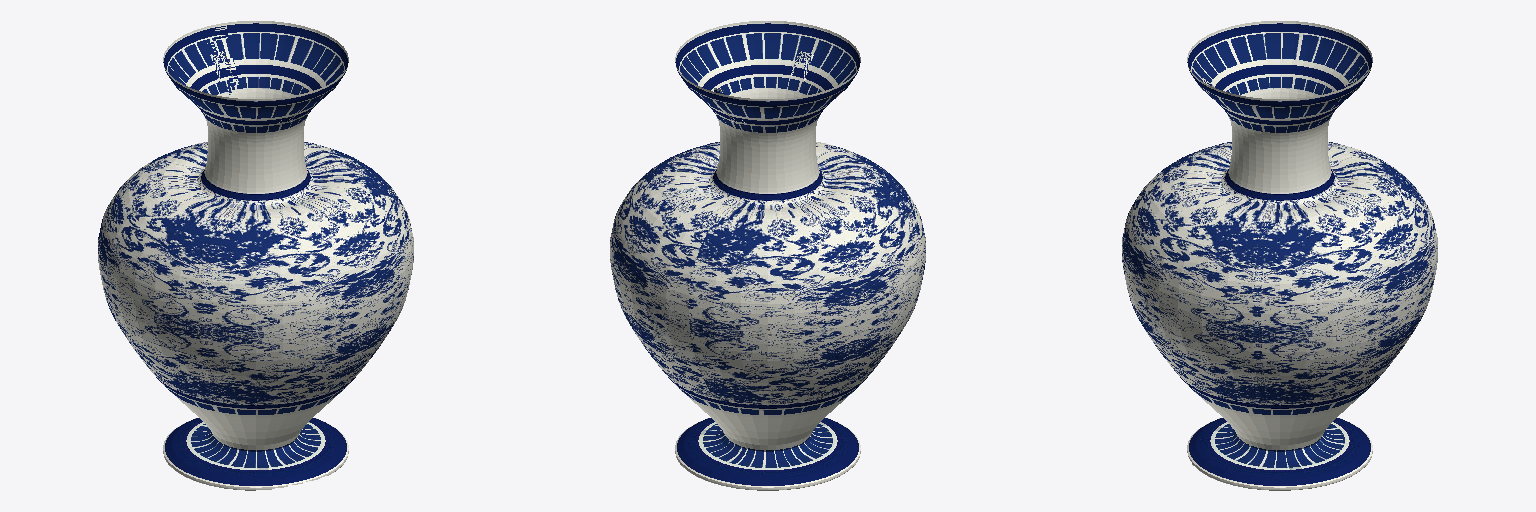
The picture shows the model from 3 angles: view 1: azimuth 30°, elevation 25°; view 2: azimuth 150°, elevation 25°; view 3: azimuth 270°, elevation 25°; orthographic projection.
Visible parts, largest first — view 1: Object01; view 2: Object01; view 3: Object01.
Part boxes in pixels (bbox=[...]): Object01: bbox=[98, 21, 413, 490]; Object01: bbox=[610, 21, 925, 490]; Object01: bbox=[1122, 21, 1437, 490].
Bounding box in the file's own units: 4841743 × 6613841 × 4841744.
Materials: 1 (1 with a texture image).